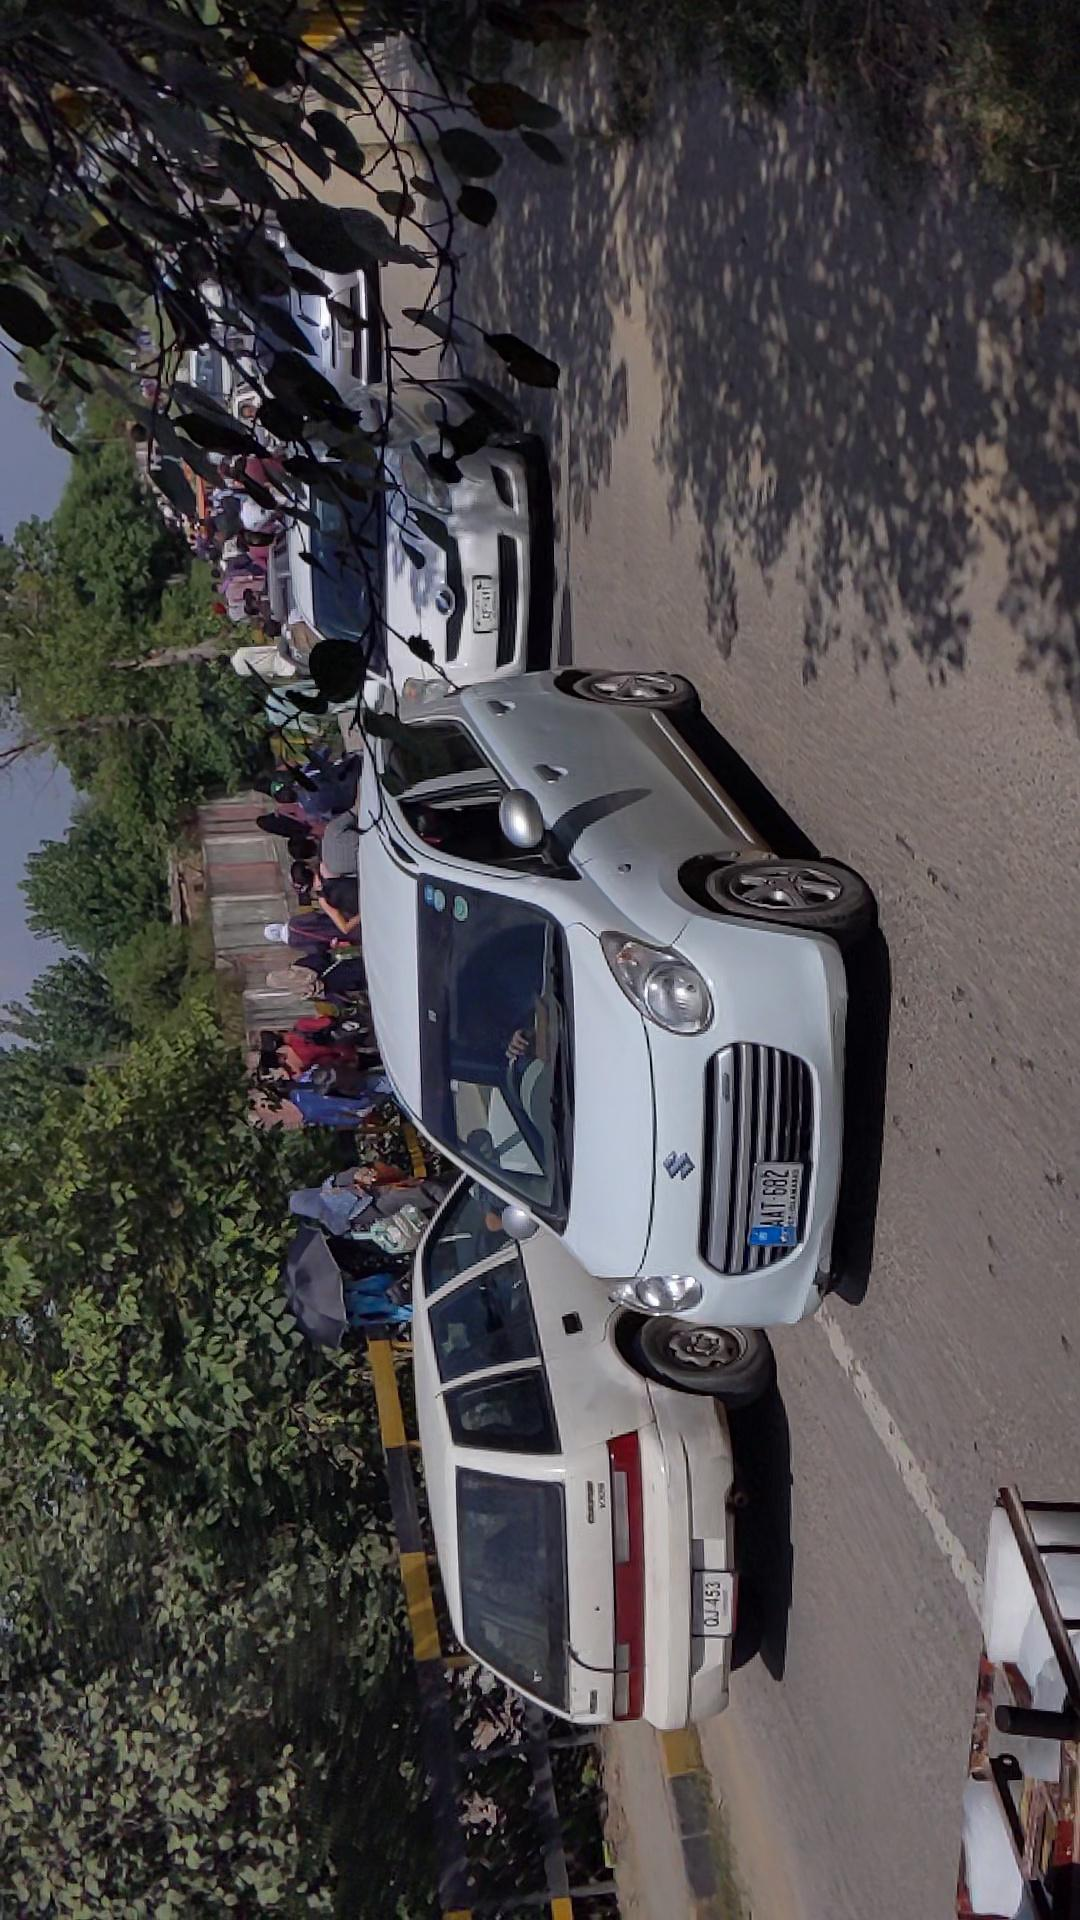windshield: (369, 717, 603, 1079)
